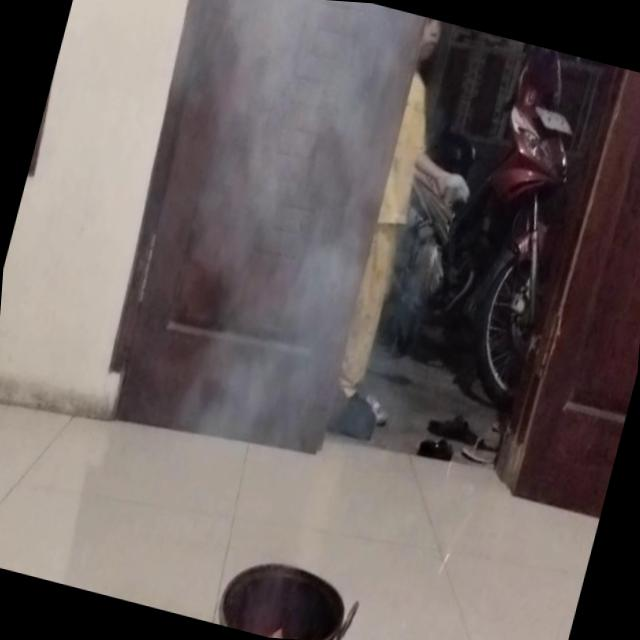smoke: (121, 0, 450, 513)
